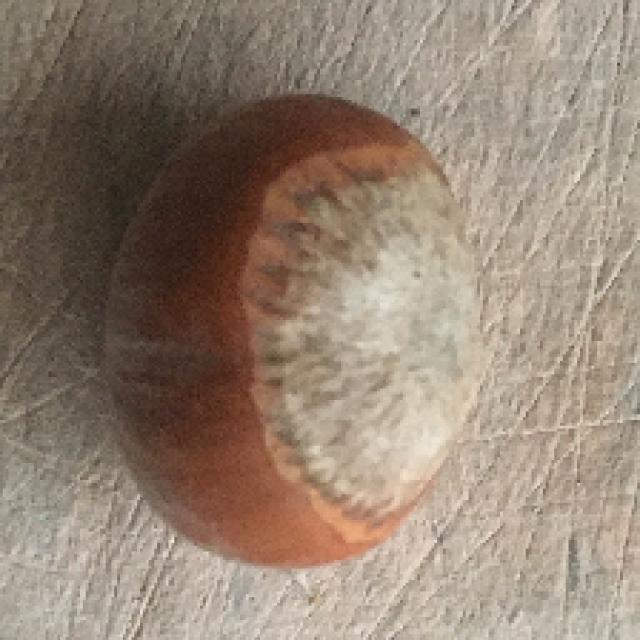qualityHazelnut: (92, 88, 488, 571)
